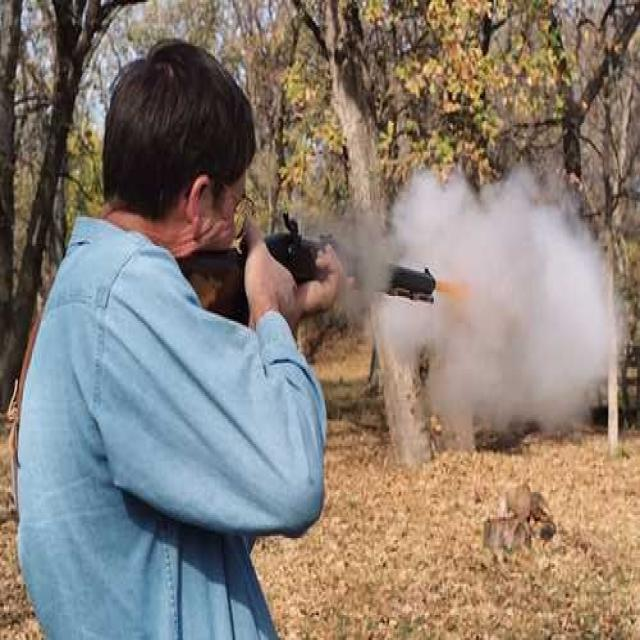heavyweapon: (178, 236, 459, 341)
